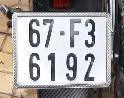1: (45, 50, 57, 84)
2: (83, 50, 97, 83)
3: (83, 18, 98, 50)
6: (27, 15, 42, 48), (28, 50, 43, 82)
7: (42, 16, 56, 49)
9: (64, 49, 78, 85)
F: (65, 16, 84, 51)
